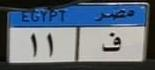1: (31, 32, 38, 57), (46, 32, 53, 56)
faa: (101, 31, 123, 54)
